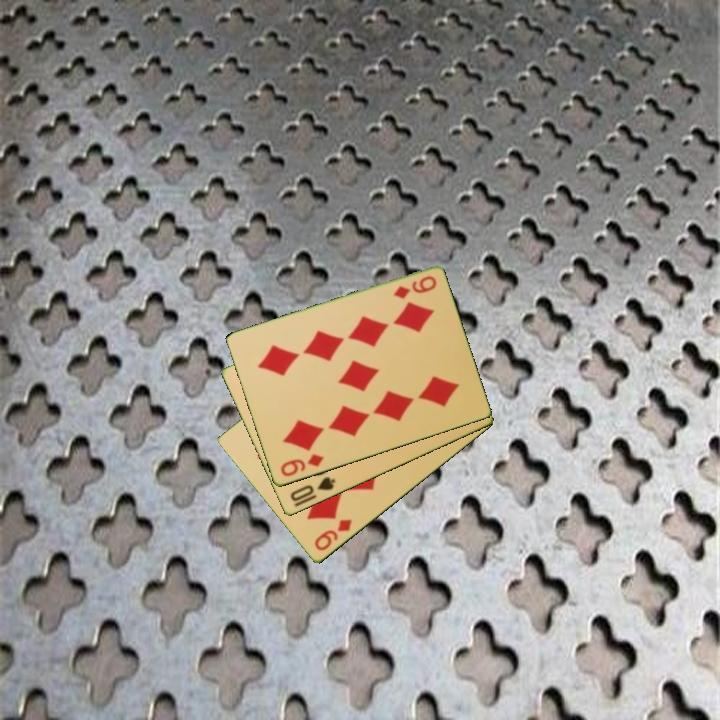10s: (287, 474, 338, 505)
9d: (311, 516, 355, 554), (277, 451, 327, 480), (390, 273, 439, 302)
